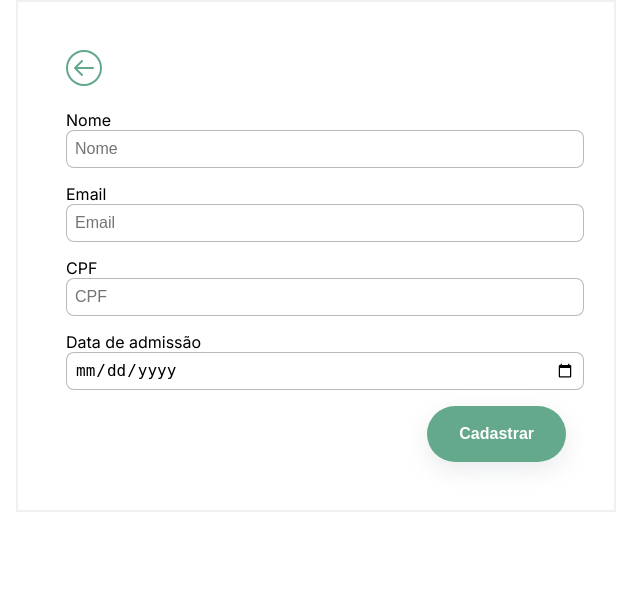
Test case: NewUser › Name Validation › should show a error message when the name does not have at least 2 names
Type "Test" into the field labelled "Nome" at (325, 149), box x1=66 y1=130 x2=584 y2=168
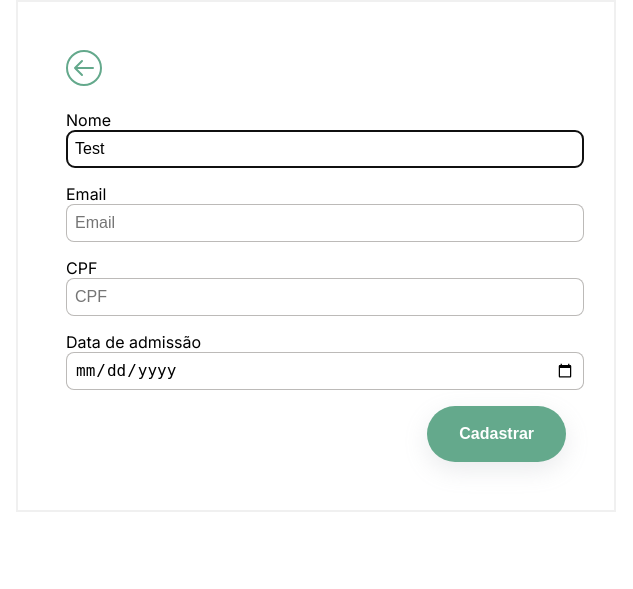
Click the button "Cadastrar" at (497, 434), box x1=427 y1=406 x2=566 y2=462
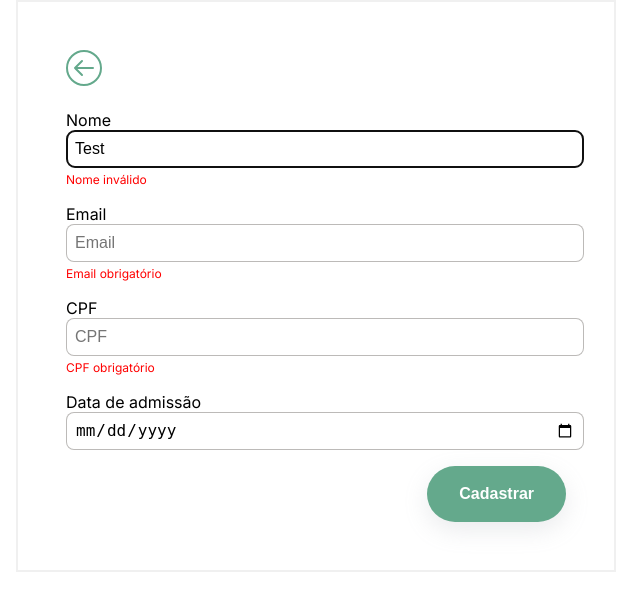
Check: the text "Nome inválido" is shown, box x1=66 y1=172 x2=147 y2=187
